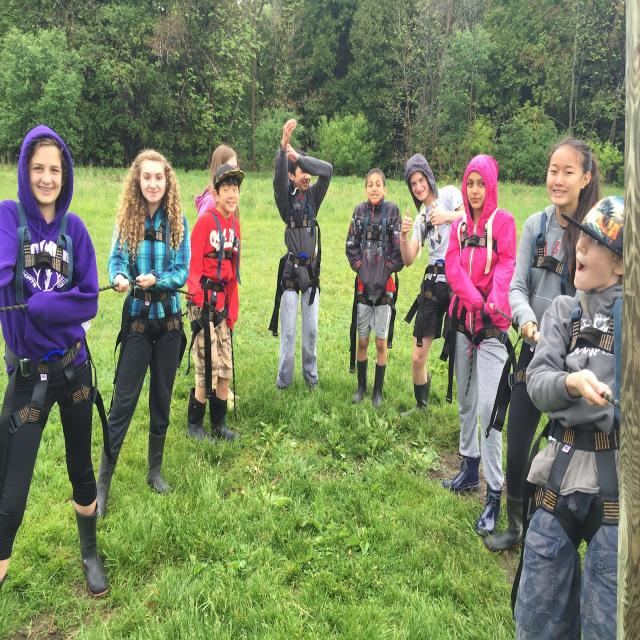body: (0, 123, 113, 607), (483, 135, 602, 552), (513, 193, 624, 639), (88, 146, 194, 522), (441, 151, 519, 538), (397, 151, 469, 422), (266, 115, 334, 398), (184, 165, 246, 446), (344, 164, 406, 410), (194, 143, 240, 410)
